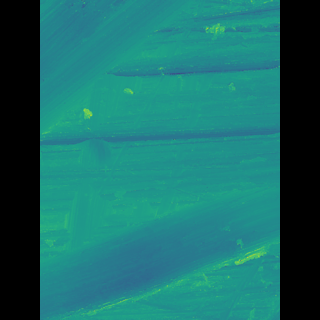Loch: (70, 183, 249, 320), (69, 0, 182, 135)
